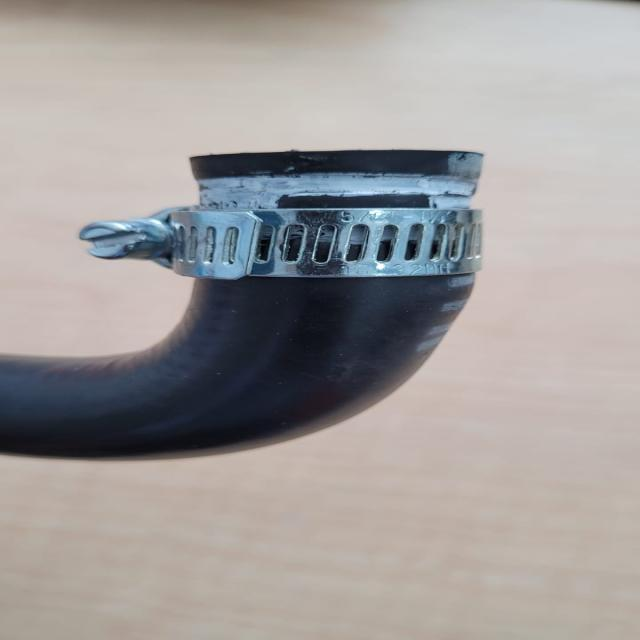clamp: (70, 213, 490, 280)
pipe: (203, 155, 482, 209)
